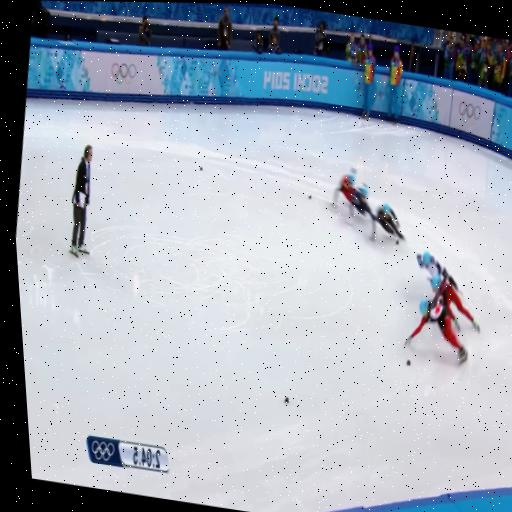Skater: (404, 295, 466, 363), (331, 169, 374, 238), (430, 275, 479, 332), (416, 251, 457, 289), (375, 203, 404, 240)
